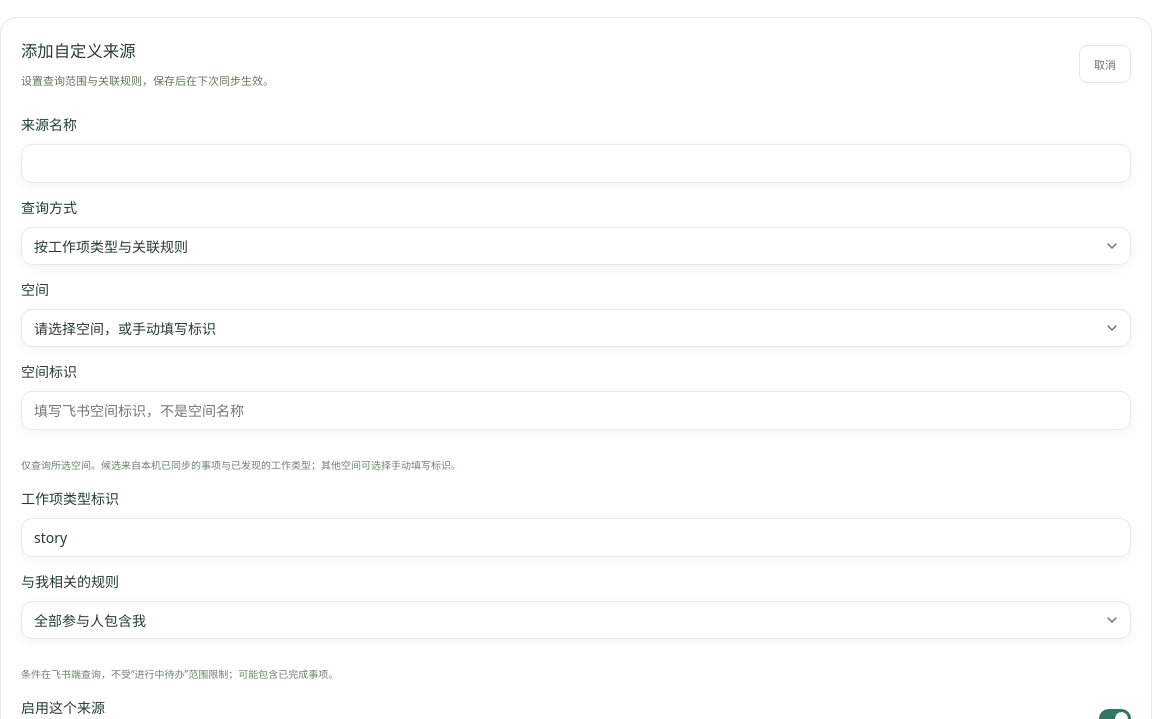
Test: 自定义人员规则必须选择实际字段或角色
The width and height of the screenshot is (1152, 719).
Type "我的职责" into the field labelled "来源名称".
click(576, 163); type("我的职责")  # box [21,144,1131,183]
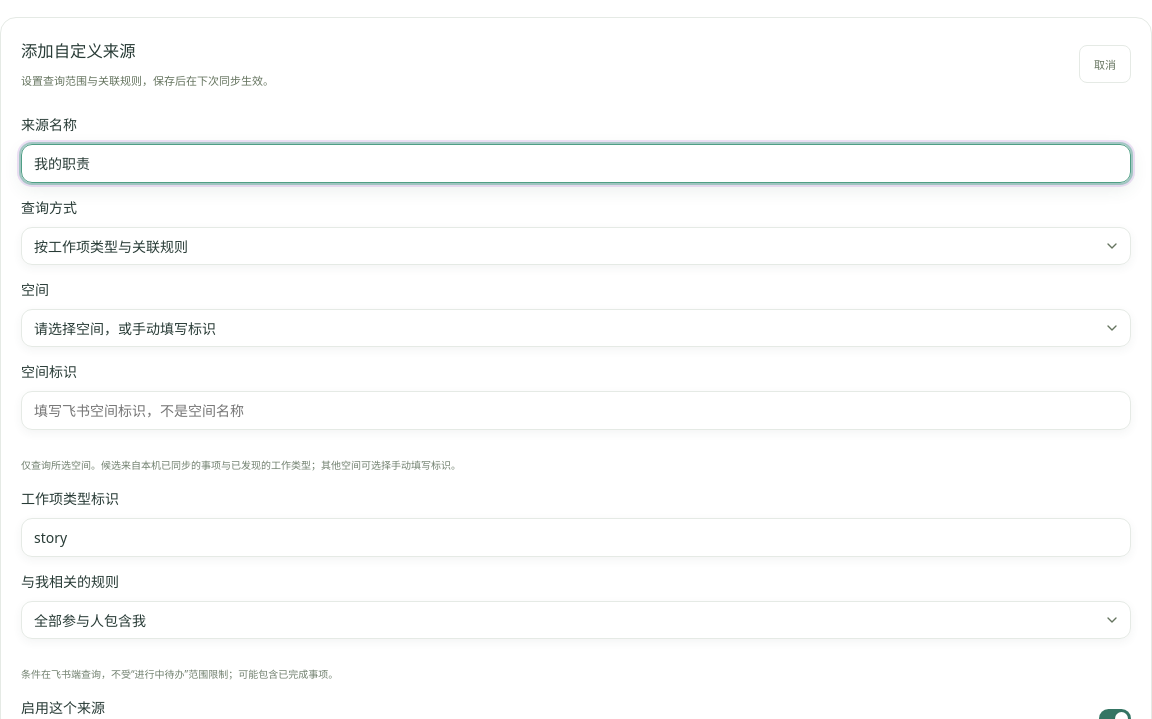
Click the dropdown named "来源空间".
click(125, 328)  # box [21,309,1131,347]
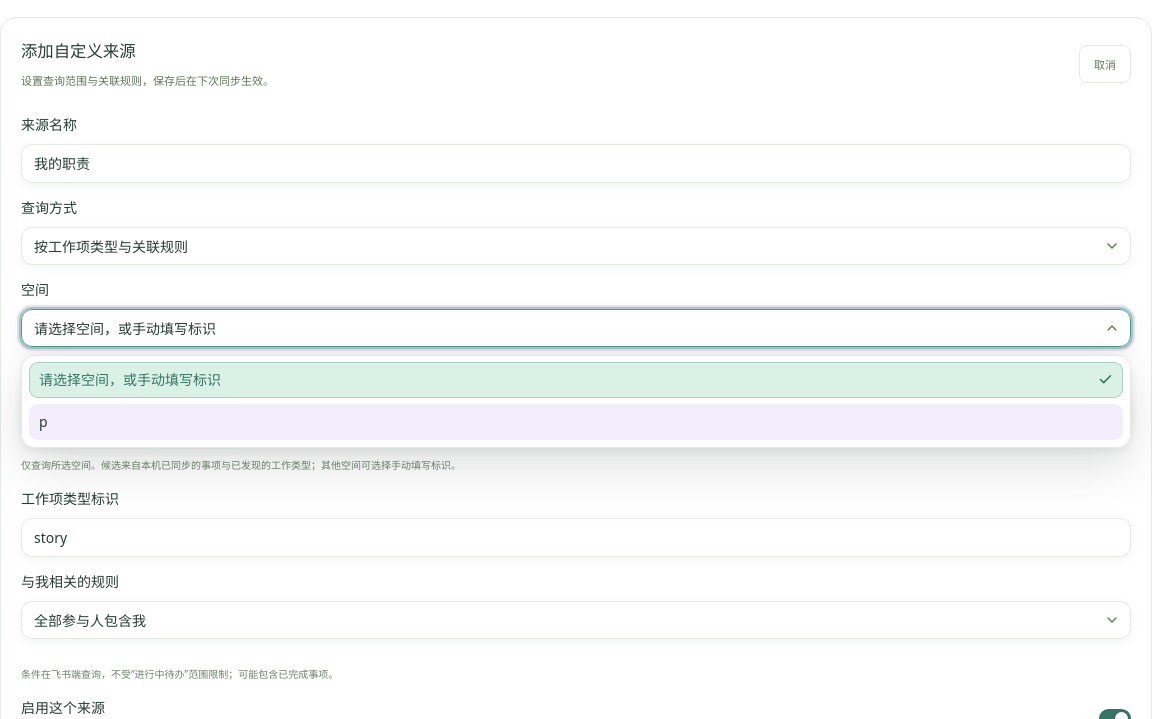
Click the option "p".
click(43, 422)  # box [29,404,1123,440]
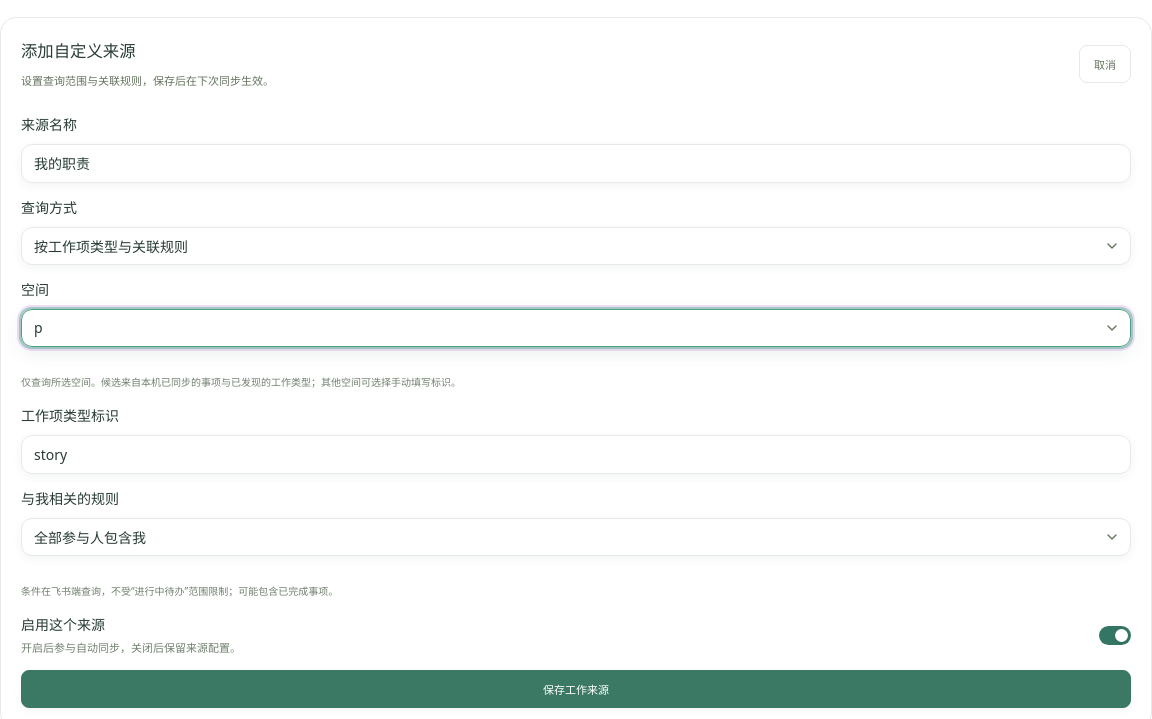
Click the dropdown named "本人关联规则".
click(90, 537)  # box [21,518,1131,556]
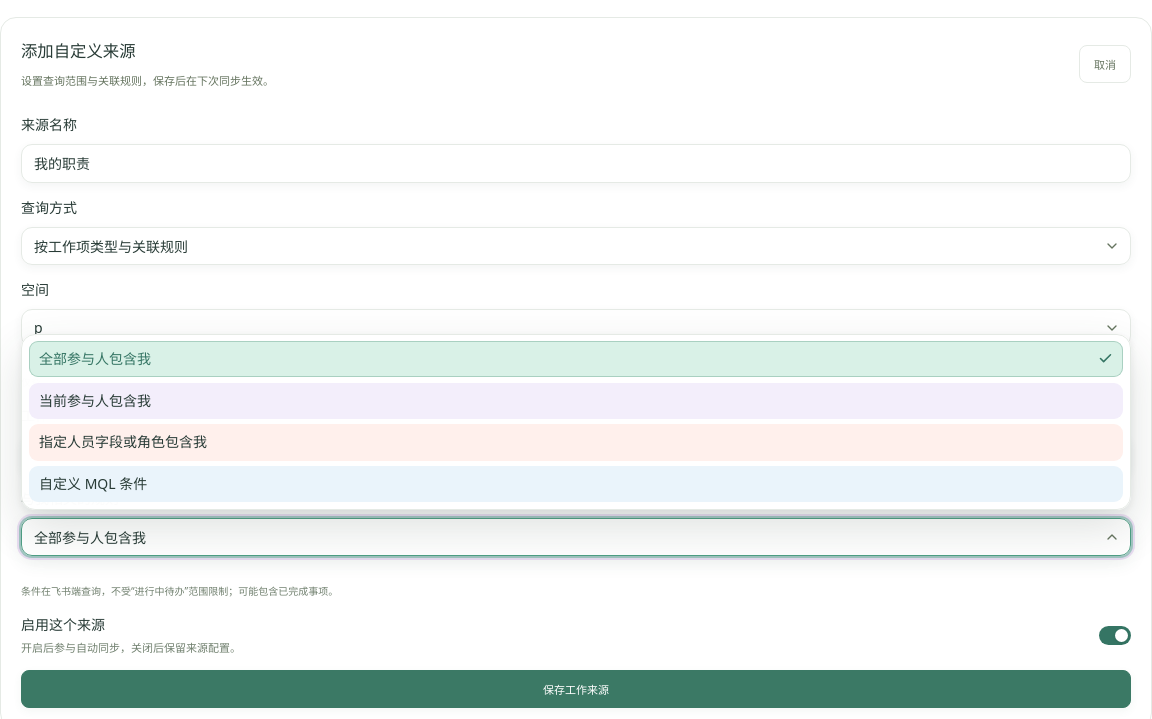
Click the option "指定人员字段或角色包含我".
click(123, 442)  # box [29,424,1123,460]
(page scrolled)
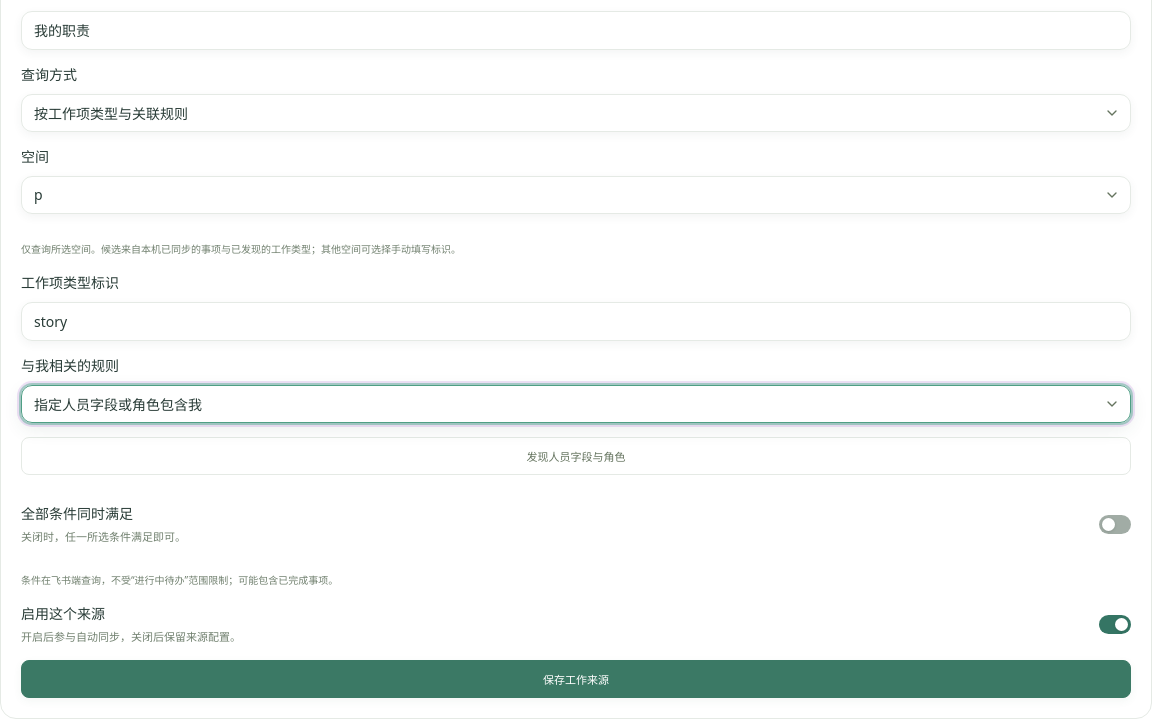
Click the button "保存工作来源".
click(576, 679)  # box [21,660,1131,698]
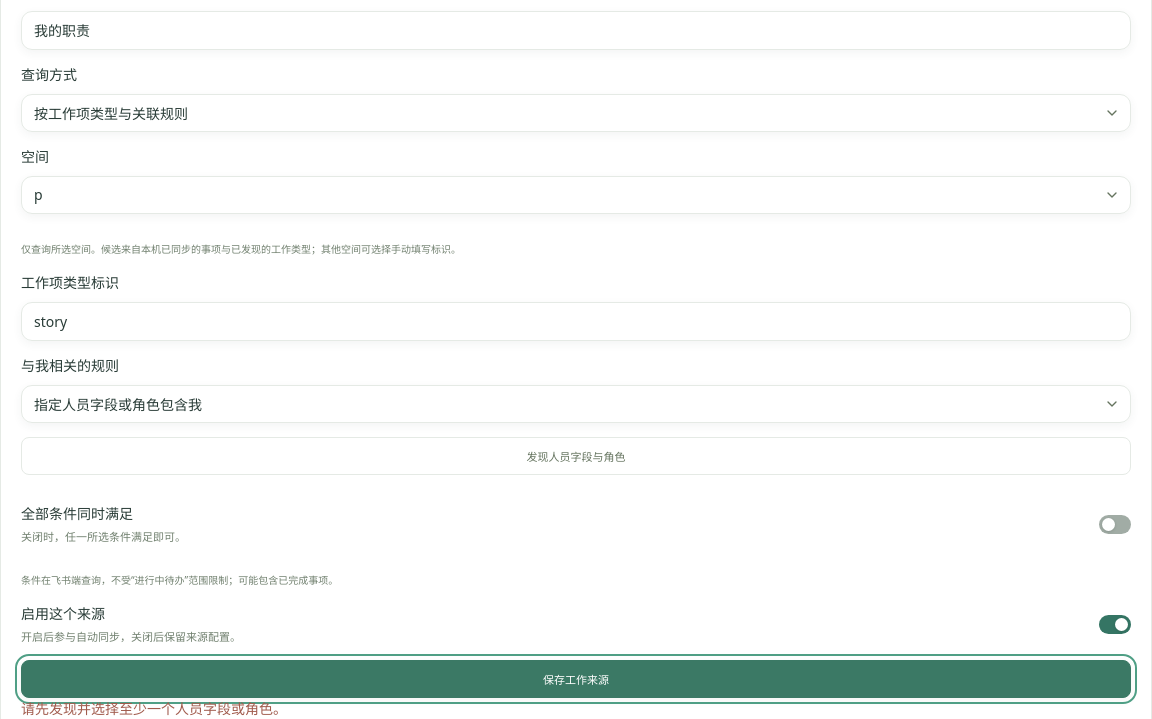
Expected: the message reads "请先发现并选择至少一个人员字段或角色。", [21,699,287,718]
